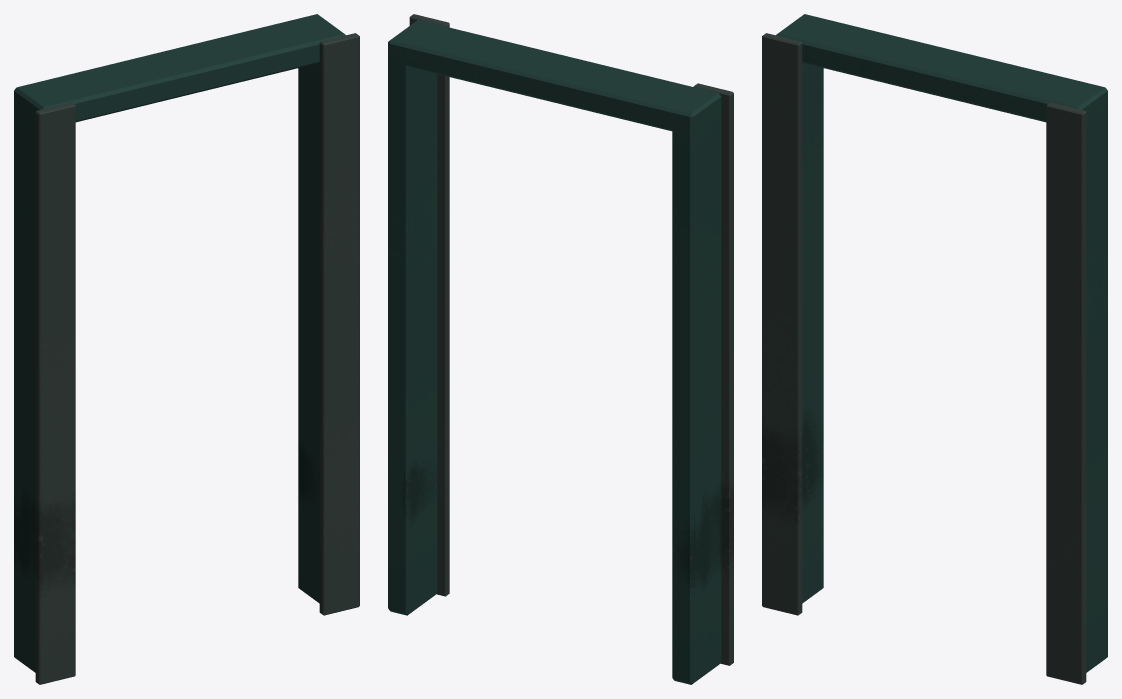
Rendered from door_frame.glb.
3 views of the same model, side by side, from view 1: azimuth 30°, elevation 25°; view 2: azimuth 150°, elevation 25°; view 3: azimuth 330°, elevation 25° (orthographic).
Parts seen in each view (by area): view 1: door_frame; view 2: door_frame; view 3: door_frame.
Part boxes in pixels (<box>): door_frame: <box>14,14,359,684</box>; door_frame: <box>388,14,733,684</box>; door_frame: <box>762,14,1107,684</box>.
Size of what is drawn, in the model's own units: 1.47 by 2.5 by 0.2725.
1 material, 1 textured.
